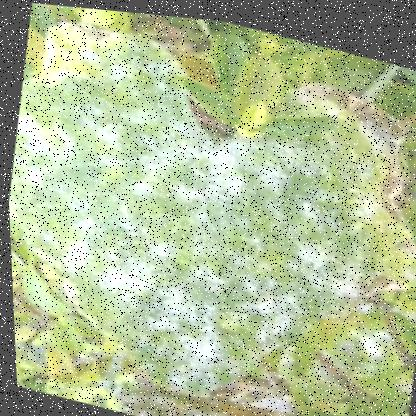PowderyMildew: (22, 77, 246, 363), (155, 138, 341, 341)
